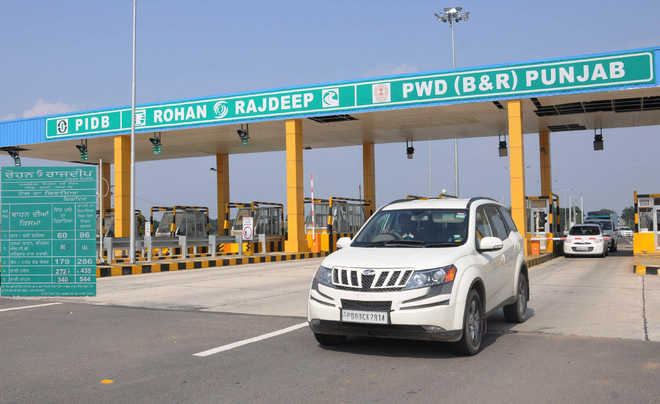toll plaza: (96, 48, 303, 289)
